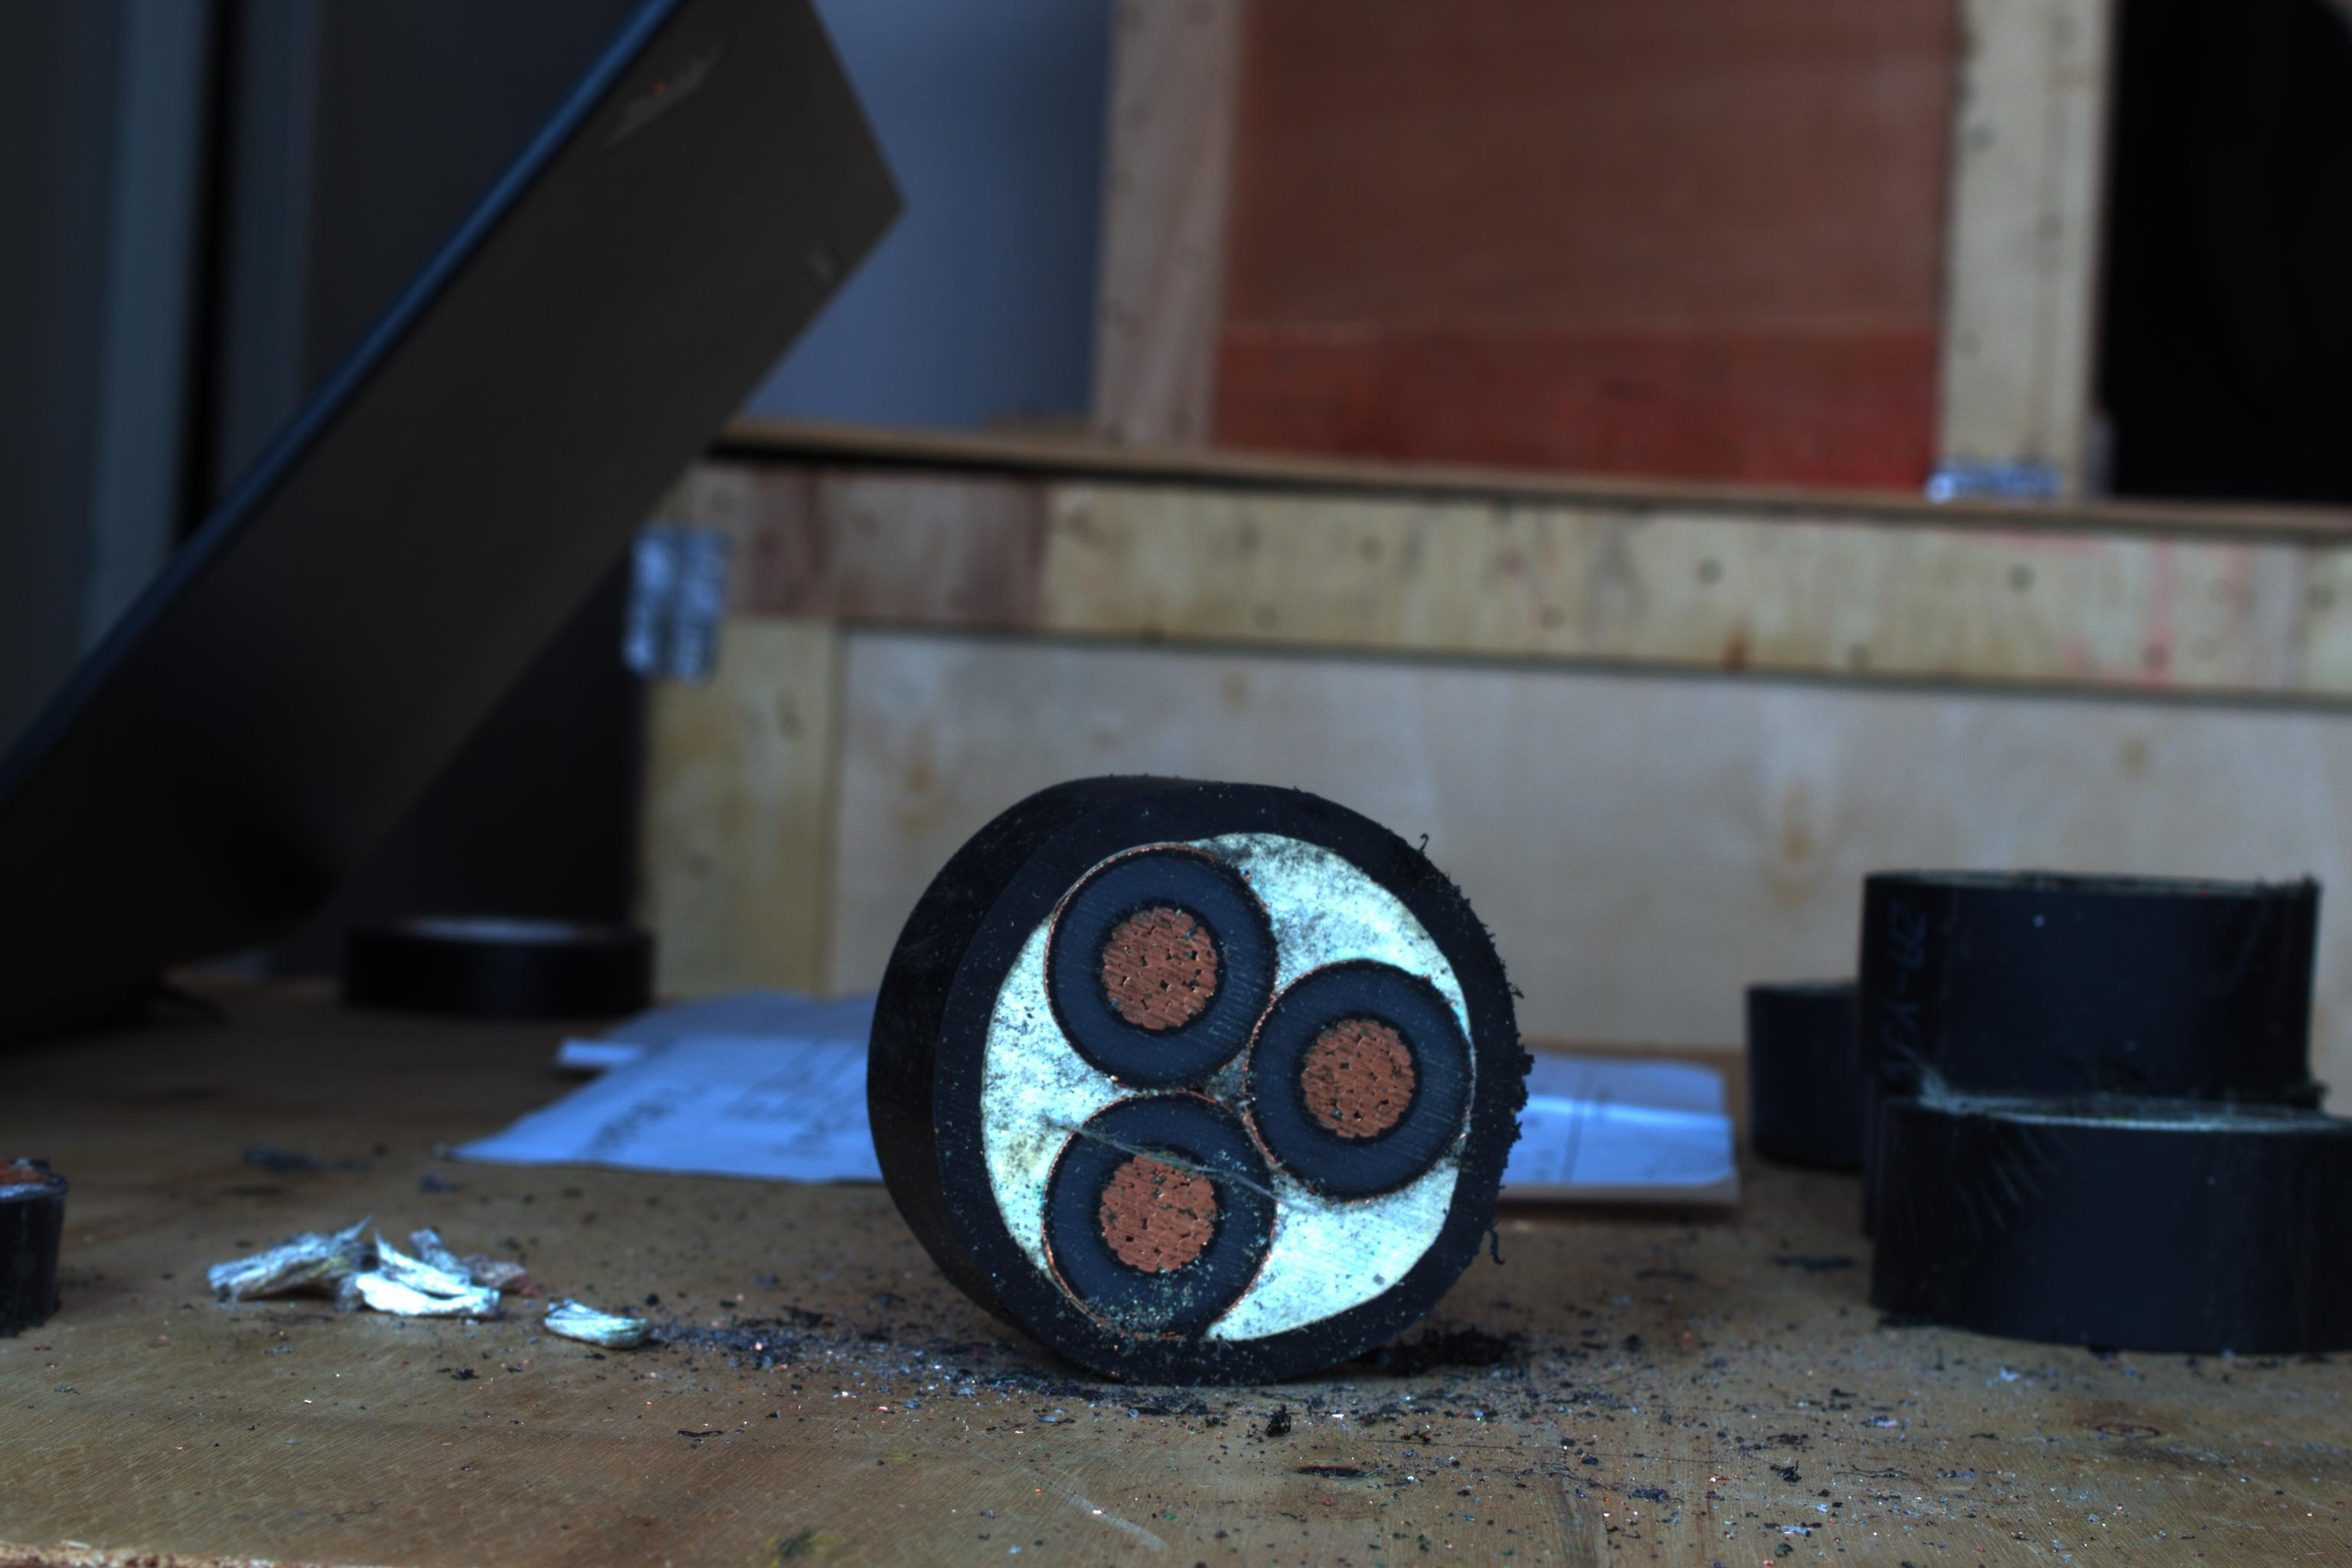ZA_YJV_8.7_10kV_3x120: (940, 789, 1552, 1393)
